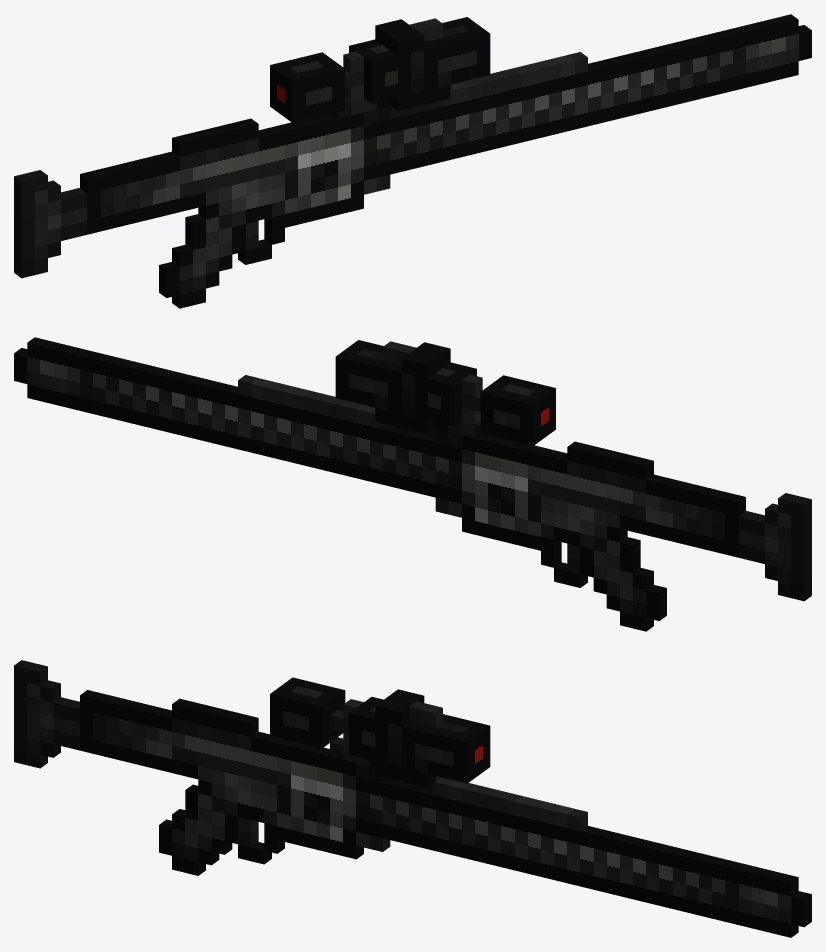
File: PREDATOR.glb
3 views of the same model, one above another, from view 1: azimuth 30°, elevation 25°; view 2: azimuth 150°, elevation 25°; view 3: azimuth 330°, elevation 25° (orthographic).
Parts seen in each view (by area): view 1: PREDATOR; view 2: PREDATOR; view 3: PREDATOR.
Boxes of the visible parts, x1,y1,x2,y2 form: PREDATOR: (14, 14, 811, 308); PREDATOR: (14, 337, 811, 631); PREDATOR: (14, 660, 811, 937).
Size of the model in its own units: 1.89 by 0.5039 by 0.0946.
Materials: 1 (1 with a texture image).
